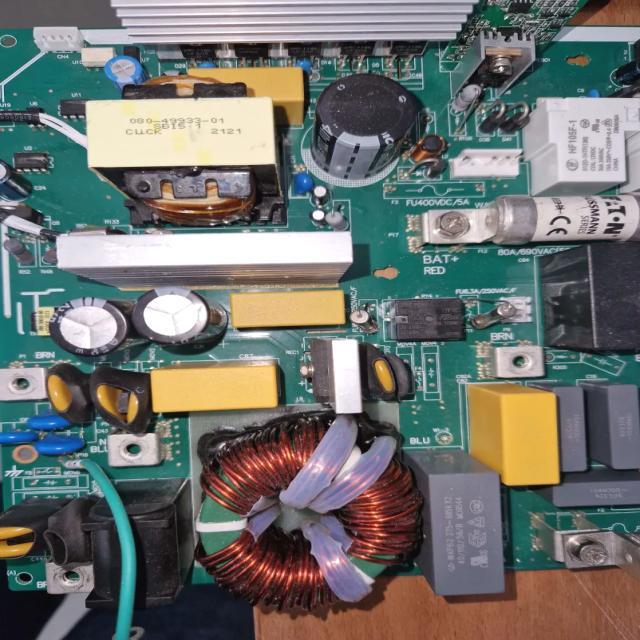A: (197, 423, 421, 609)
B: (422, 194, 640, 246)
C: (314, 74, 412, 178), (132, 286, 215, 346), (50, 297, 130, 356)
G: (108, 0, 475, 43), (59, 232, 352, 281)
